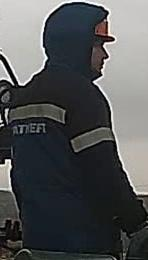helmet: (91, 13, 117, 44)
vest: (7, 70, 120, 255)
